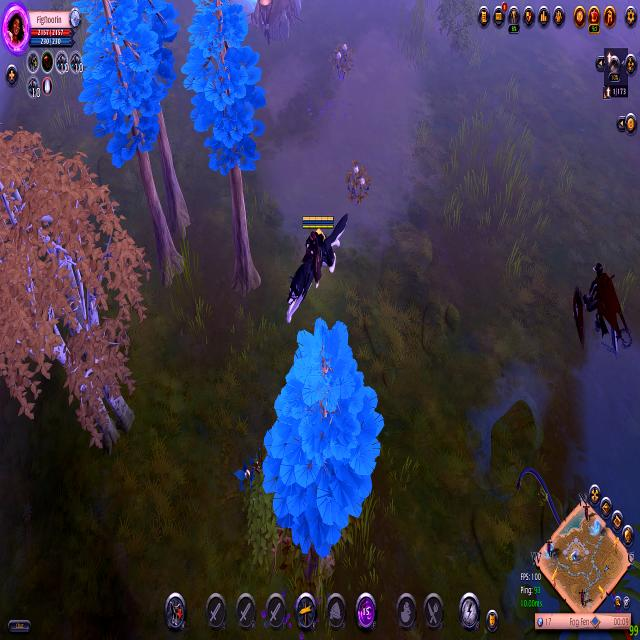hide: (235, 443, 272, 504), (328, 34, 356, 91), (344, 158, 374, 211)
ore: (568, 242, 635, 377)
red: (281, 204, 348, 332)
wisp caged: (0, 120, 150, 454), (256, 315, 387, 640), (70, 0, 184, 295), (184, 0, 272, 306), (119, 0, 193, 239)
